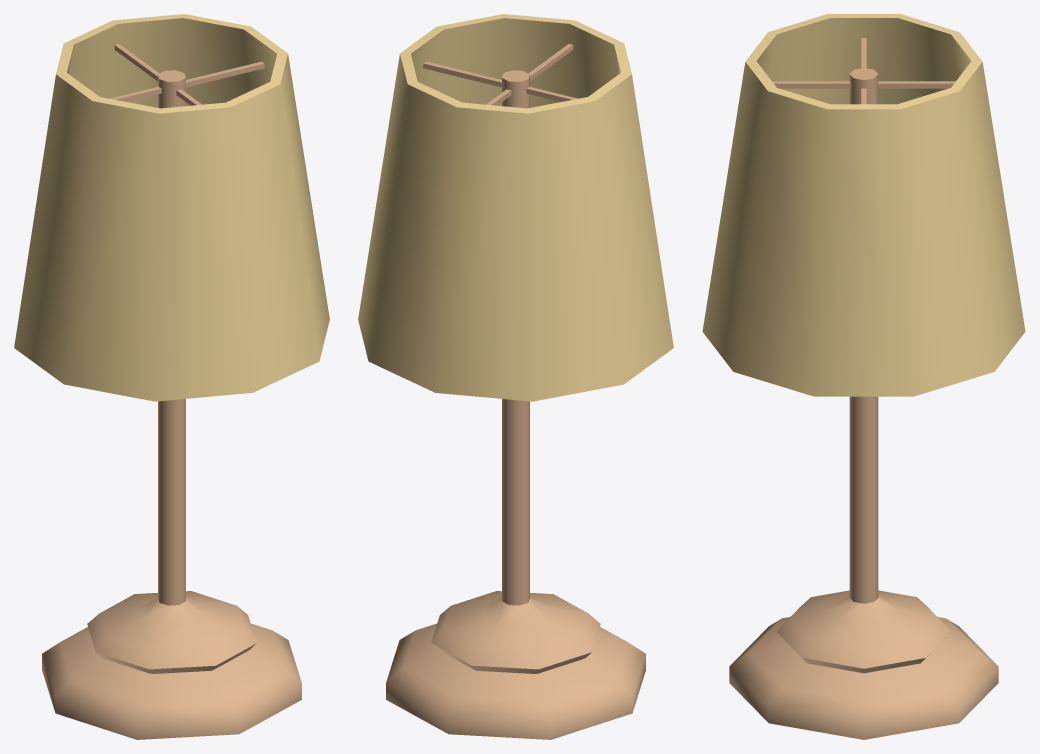
File: floor-lamp.glb
The picture shows the model from 3 angles, left to right: view 1: azimuth 30°, elevation 25°; view 2: azimuth 150°, elevation 25°; view 3: azimuth 270°, elevation 25°; orthographic projection.
Visible parts, largest first — view 1: Light_Floor3; view 2: Light_Floor3; view 3: Light_Floor3.
Part boxes in pixels (x1=…): Light_Floor3: x1=14, y1=14, x2=329, y2=739; Light_Floor3: x1=358, y1=14, x2=673, y2=739; Light_Floor3: x1=702, y1=14, x2=1025, y2=739.
Size of the model in its own units: 0.4002 by 0.8942 by 0.4208.
